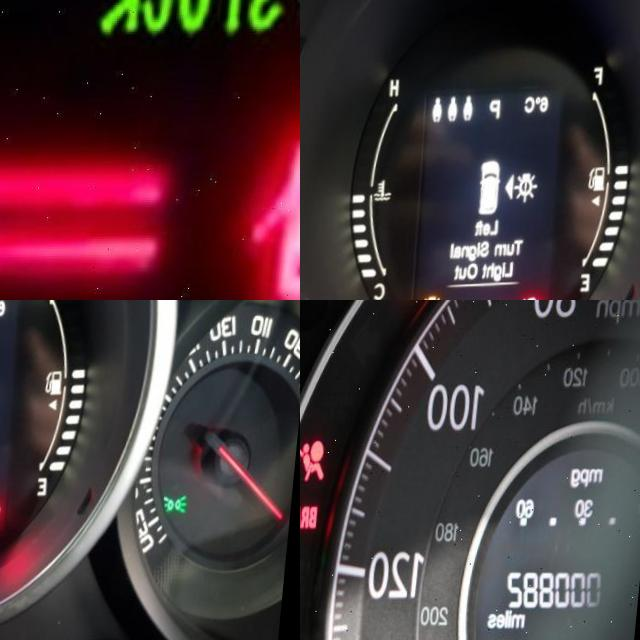SideLamp: (171, 496, 200, 516)
